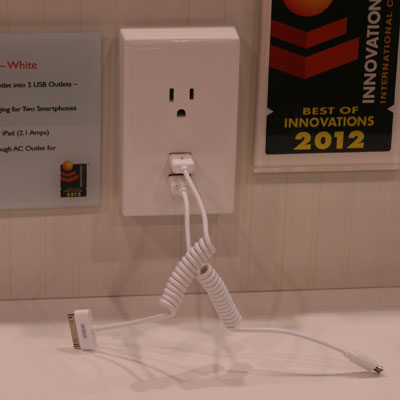outlet: (166, 83, 199, 120)
